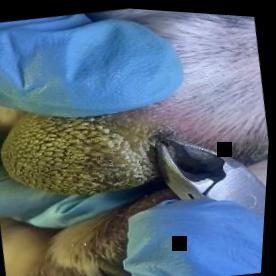keratosis: (0, 87, 169, 212)
